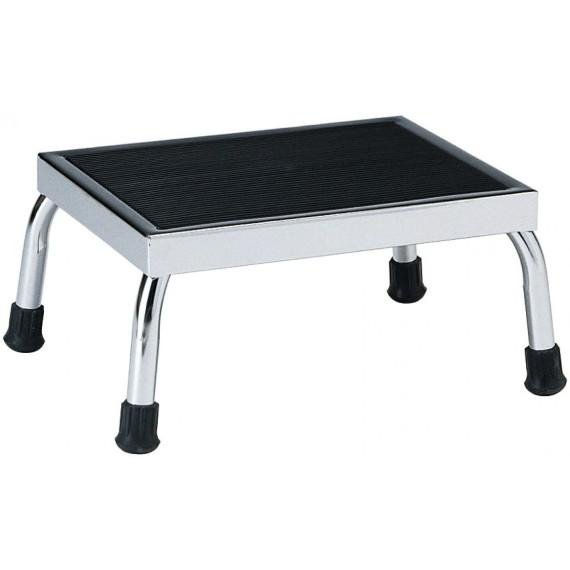stool: (5, 69, 566, 470)
